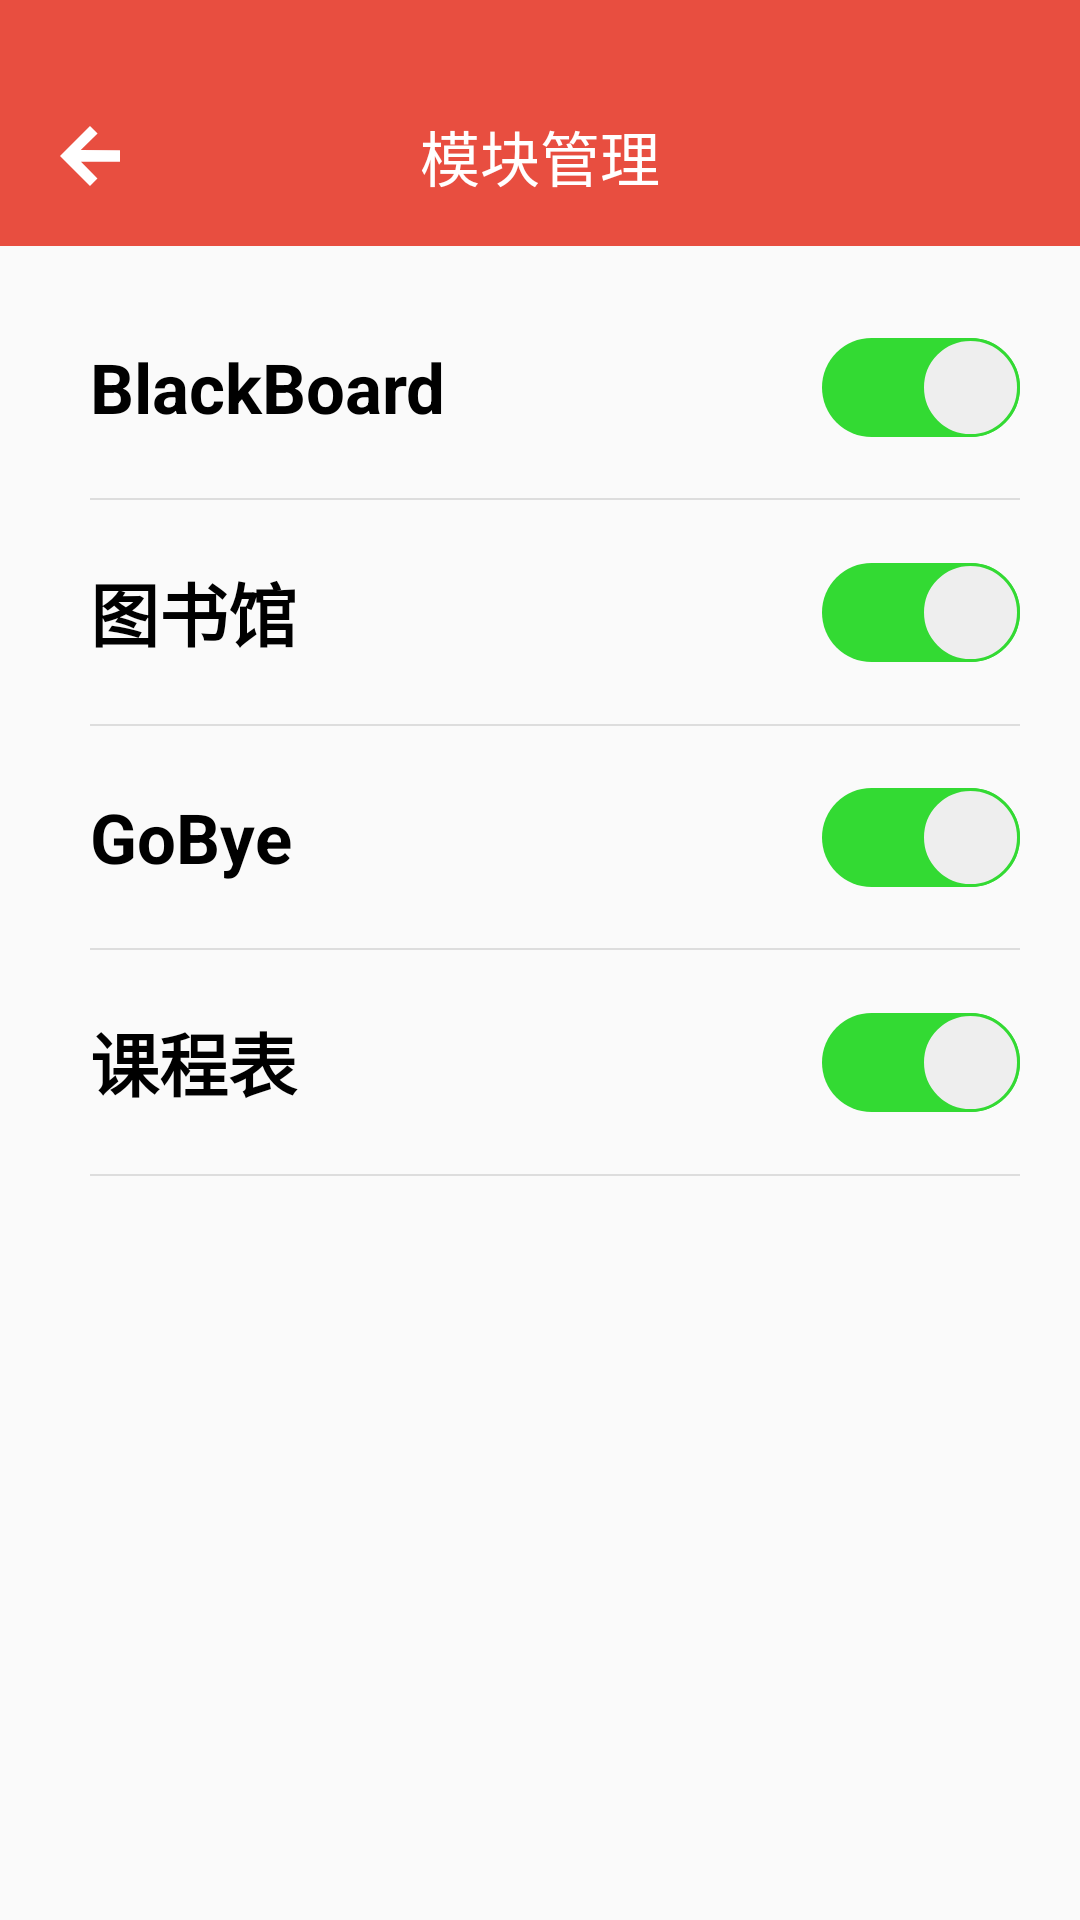

Screen size 1080x1920. Icon name, then its center in pixels as (x=x, y=y):
back: (x=90, y=156)
